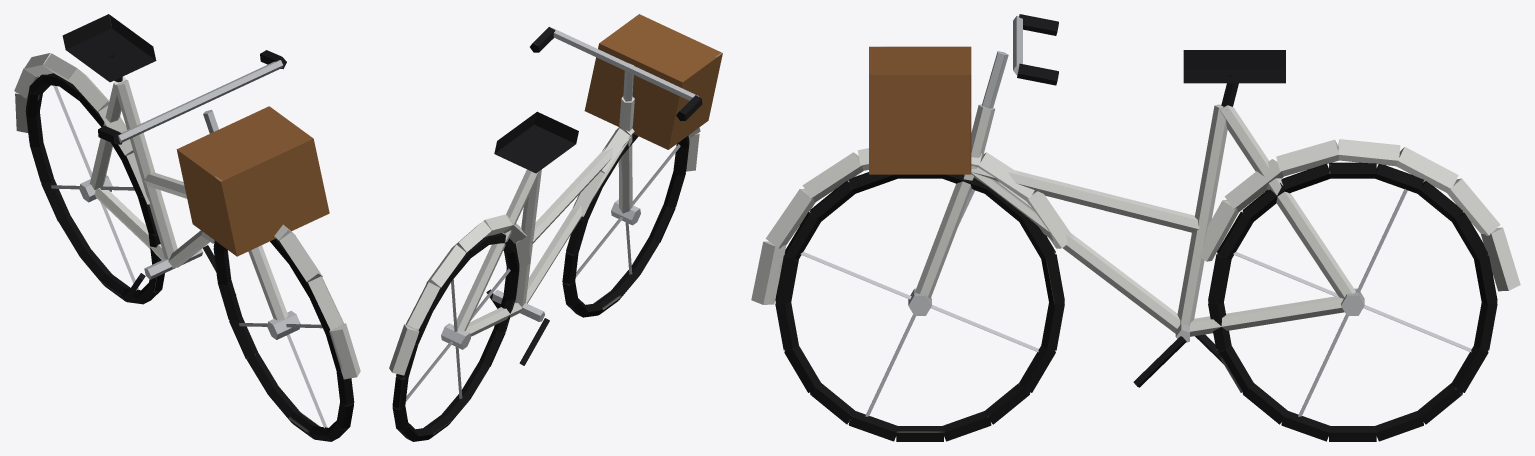
The model's file is kolo_7c9fe836.glb.
The picture shows the model from 3 angles, left to right: view 1: azimuth 30°, elevation 25°; view 2: azimuth 150°, elevation 25°; view 3: azimuth 270°, elevation 25°; orthographic projection. The views are drawn at different scales.
Parts seen in each view (by area): view 1: dum; view 2: dum; view 3: dum.
Boxes of the visible parts, x1,y1,x2,y2 form: dum: (14,14,360,441); dum: (389,14,722,441); dum: (751,14,1520,441).
Size of the model in its own units: 0.5867 by 1.09 by 1.95.
Materials: 1 (1 with a texture image).
